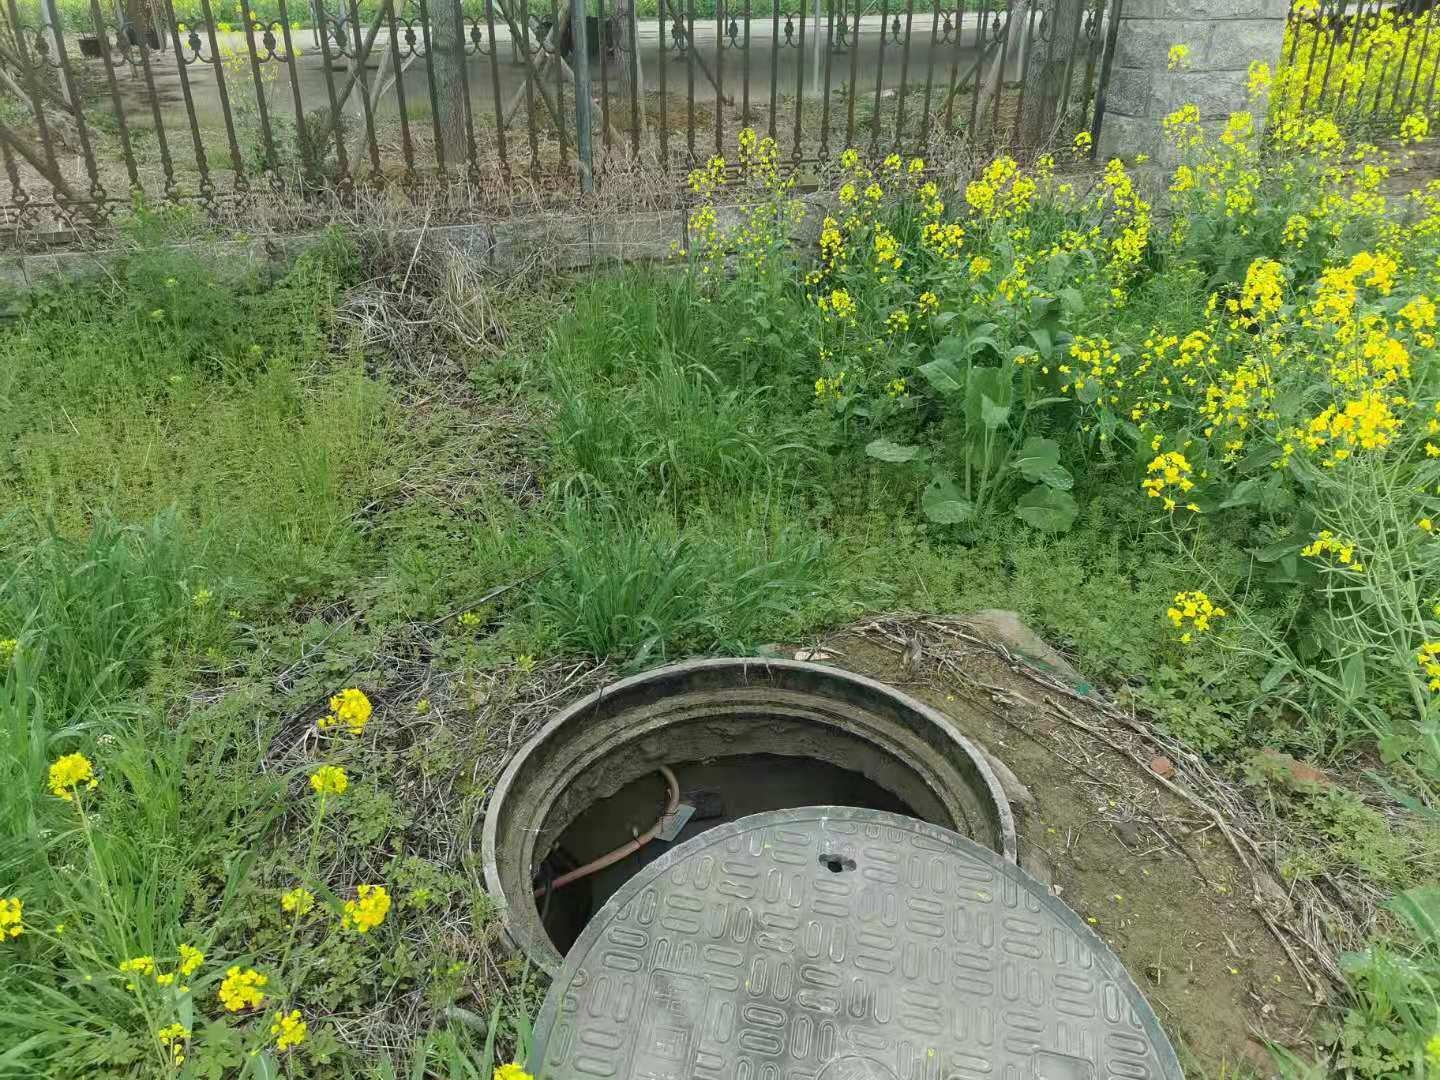well: (475, 652, 1215, 1074)
